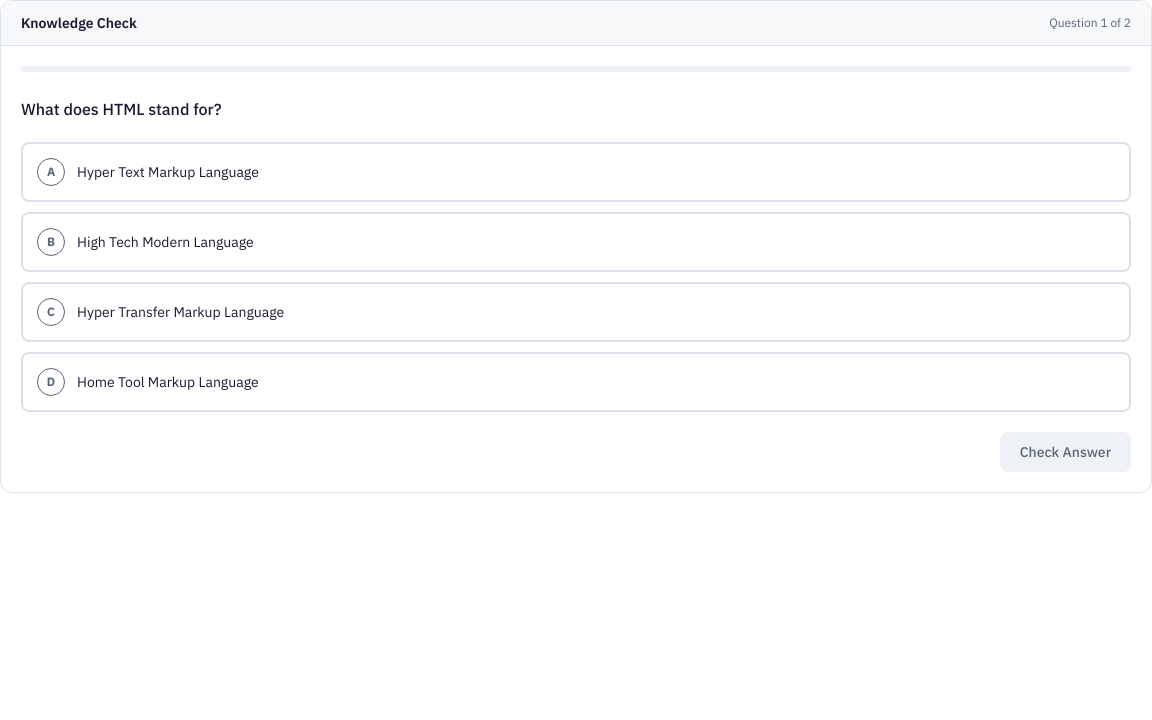
Test: QuizBlock answer selection › clicking an answer enables the Submit button
What coordinates should you click on to do the following:
click the text "Hyper Text Markup Language"
I would click on:
 (168, 172)
Its box is [77, 162, 259, 182].
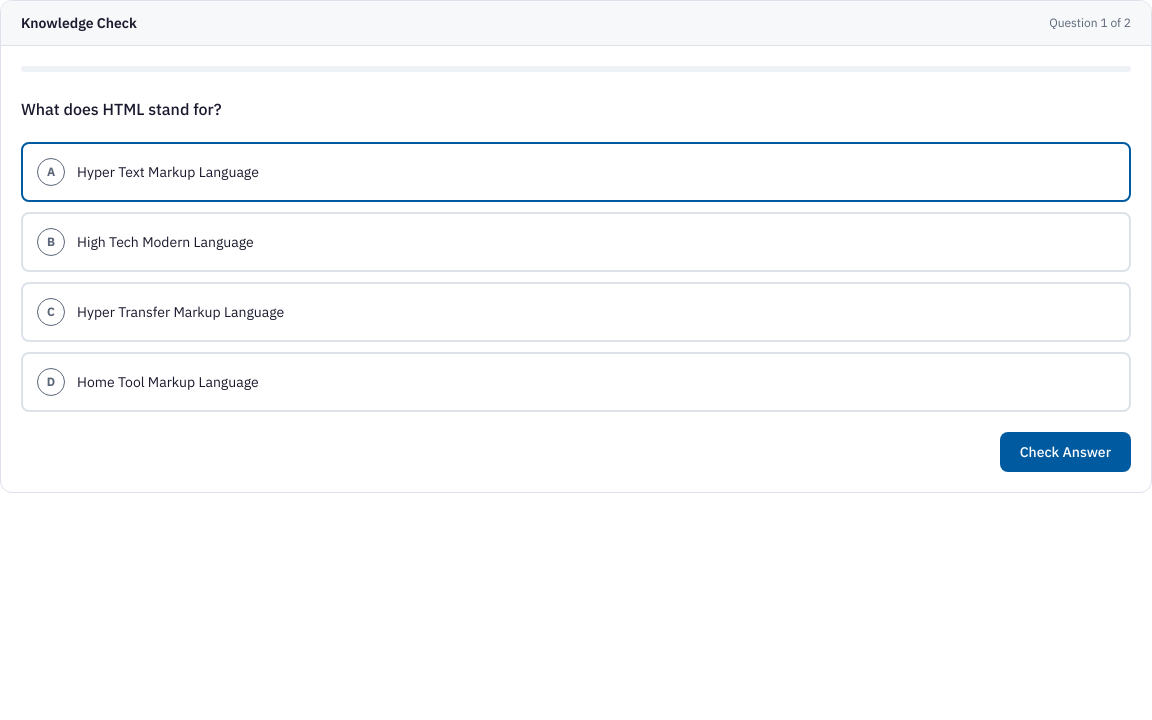
Expected: the button "Check Answer" is enabled, [1000, 432, 1131, 472]
